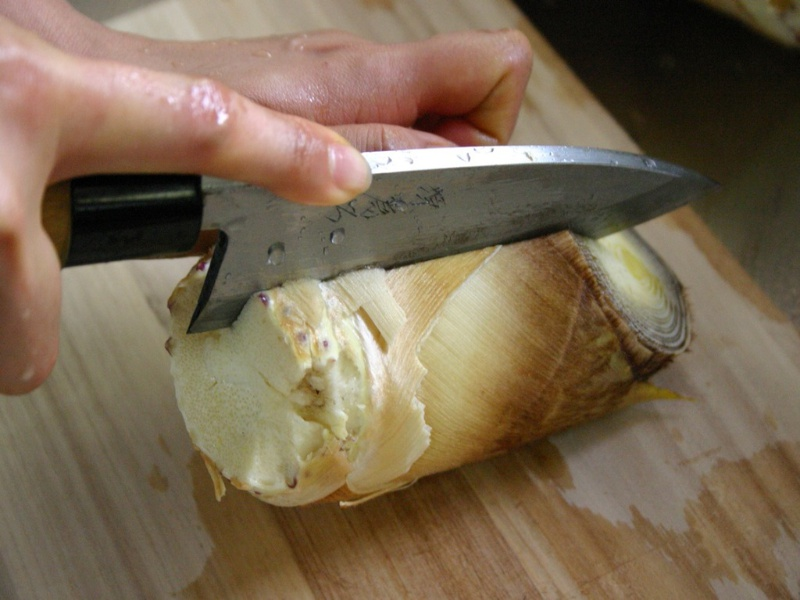knife: (1, 140, 725, 336)
